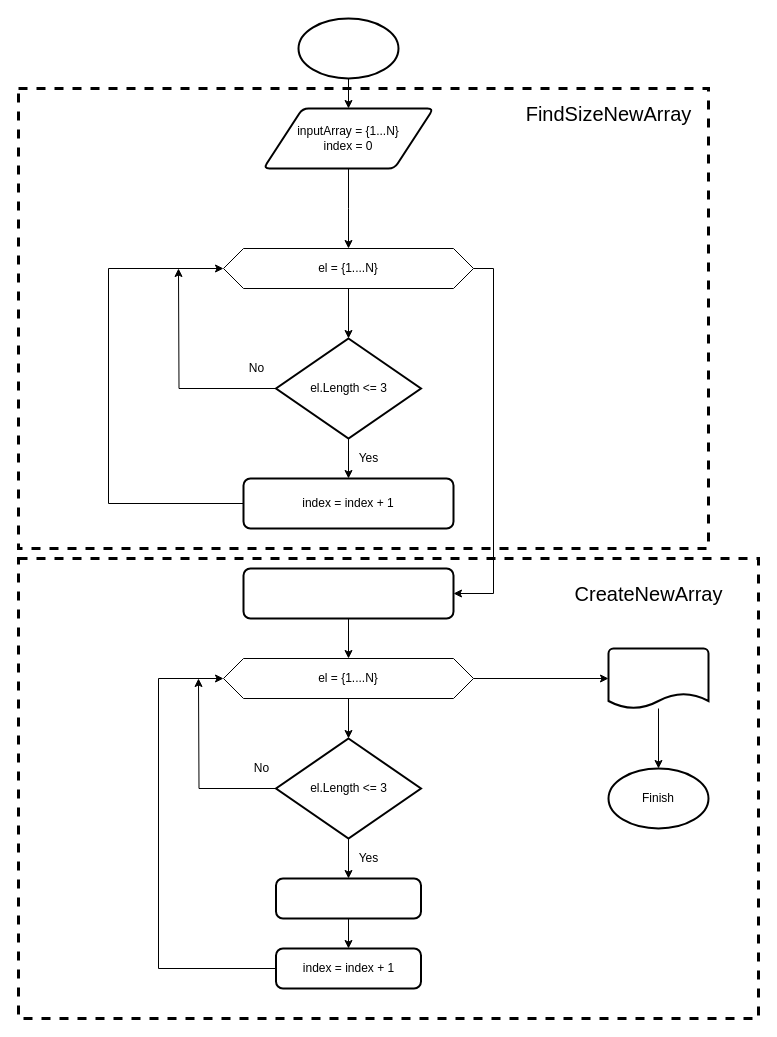
Image size: 777x1037. Some labels were removed from this diagram. Each missing label, with the box of its shape:
(newArray): (607, 647, 709, 709)
newArray = {1...index}: (242, 567, 454, 619)
newArray[index] = el: (274, 877, 422, 919)
Start: (297, 17, 399, 79)
